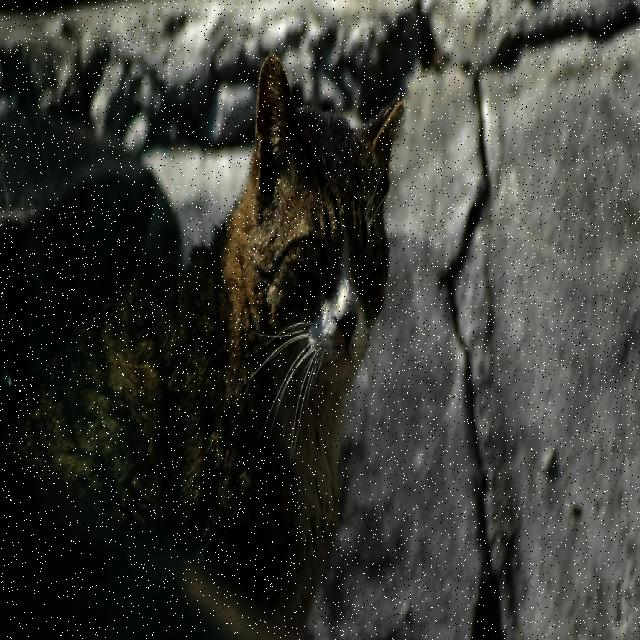cat: (10, 53, 402, 631)
